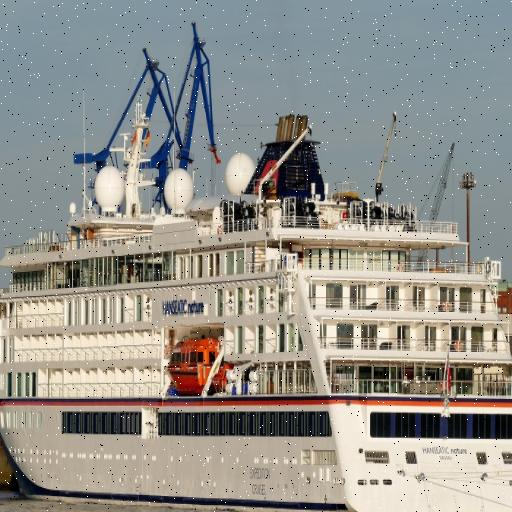cruises: (1, 114, 512, 512)
